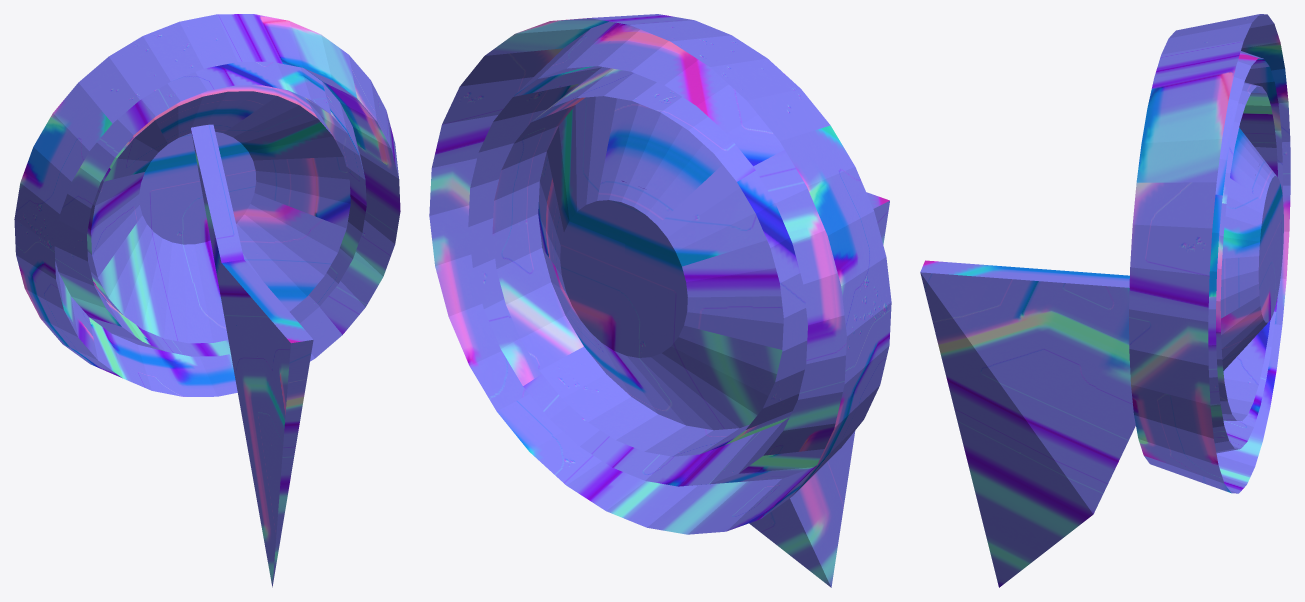
Rendered from radar11.obj.
The picture shows the model from 3 angles, left to right: view 1: azimuth 30°, elevation 25°; view 2: azimuth 150°, elevation 25°; view 3: azimuth 270°, elevation 25°; orthographic projection. The views are drawn at different scales.
Visible parts, largest first — view 1: radar; view 2: radar; view 3: radar.
Part boxes in pixels (<box>): radar: <box>14,14,400,587</box>; radar: <box>429,14,891,587</box>; radar: <box>920,14,1290,587</box>.
Size of the model in its own units: 0.9735 by 1.3 by 0.7597.
